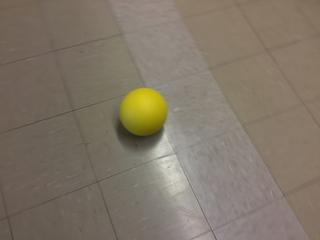power_cell: (116, 86, 170, 139)
